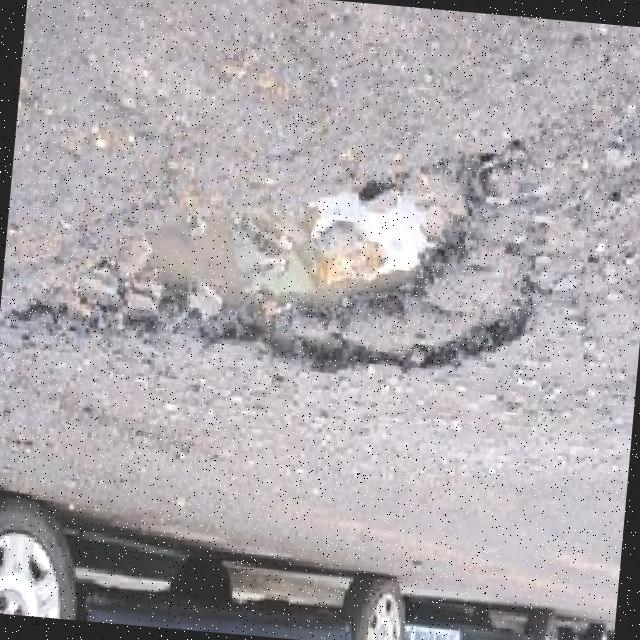Pothole: (12, 155, 525, 367)
